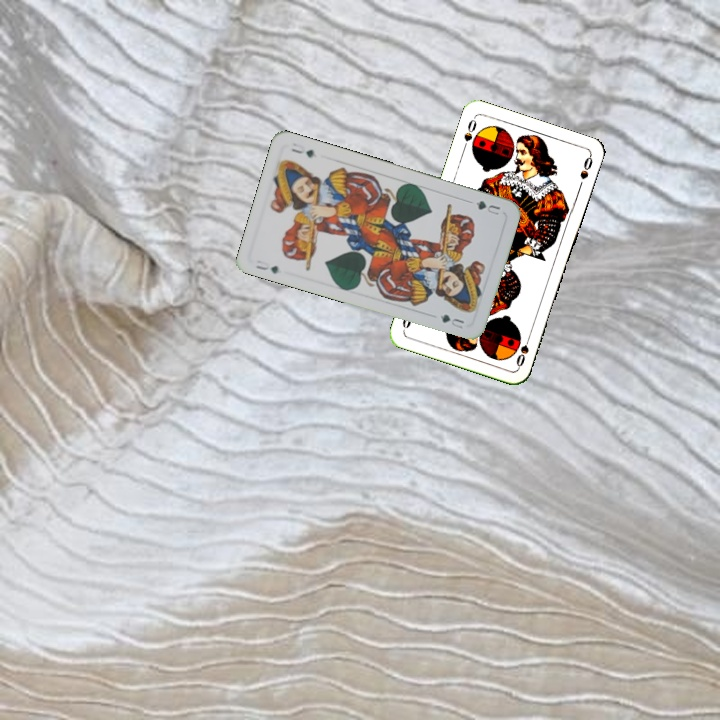GU: (465, 196, 503, 218), (252, 261, 281, 276)
SO: (512, 331, 533, 370), (458, 114, 479, 153)
